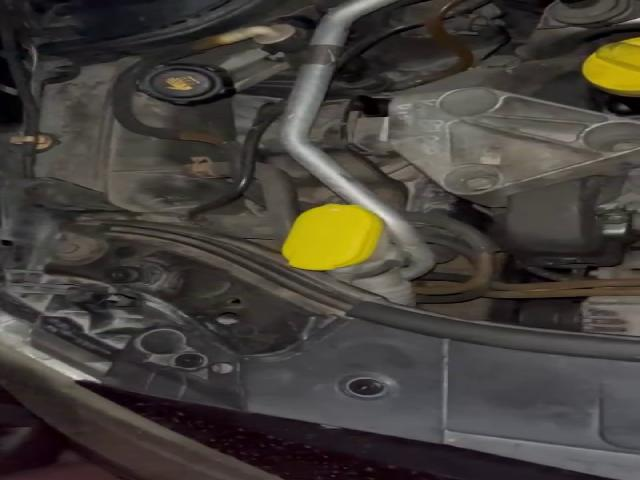antifreeze_tank: (35, 59, 230, 212), (130, 64, 234, 142)
